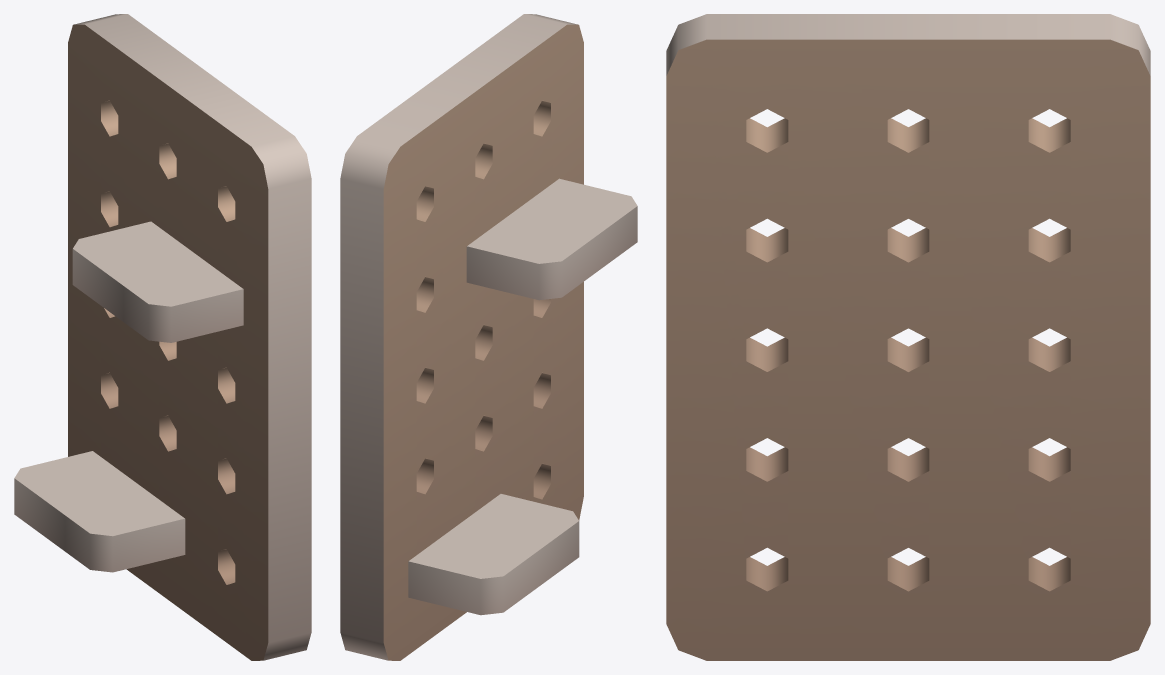
The model's file is pegboard-shelves (%wall).glb.
3 views of the same model, side by side, from view 1: azimuth 30°, elevation 25°; view 2: azimuth 150°, elevation 25°; view 3: azimuth 270°, elevation 25° (orthographic). The views are drawn at different scales.
Visible parts, largest first — view 1: pegboard-shelves (%wall); view 2: pegboard-shelves (%wall); view 3: pegboard-shelves (%wall).
Part boxes in pixels (left/top/right/bottom): pegboard-shelves (%wall): left=14, top=14, right=311, bottom=660; pegboard-shelves (%wall): left=340, top=14, right=637, bottom=660; pegboard-shelves (%wall): left=666, top=14, right=1150, bottom=660.
Size of the model in its own units: 0.225 by 0.85 by 0.6.
